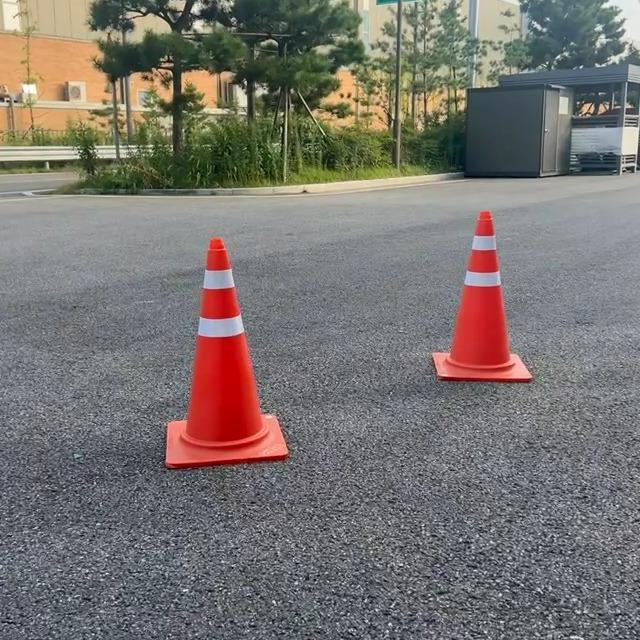fallen_object: (112, 193, 315, 481), (396, 199, 553, 393)
